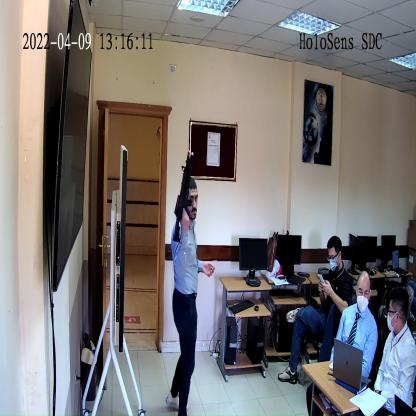handgun: (172, 155, 194, 244)
